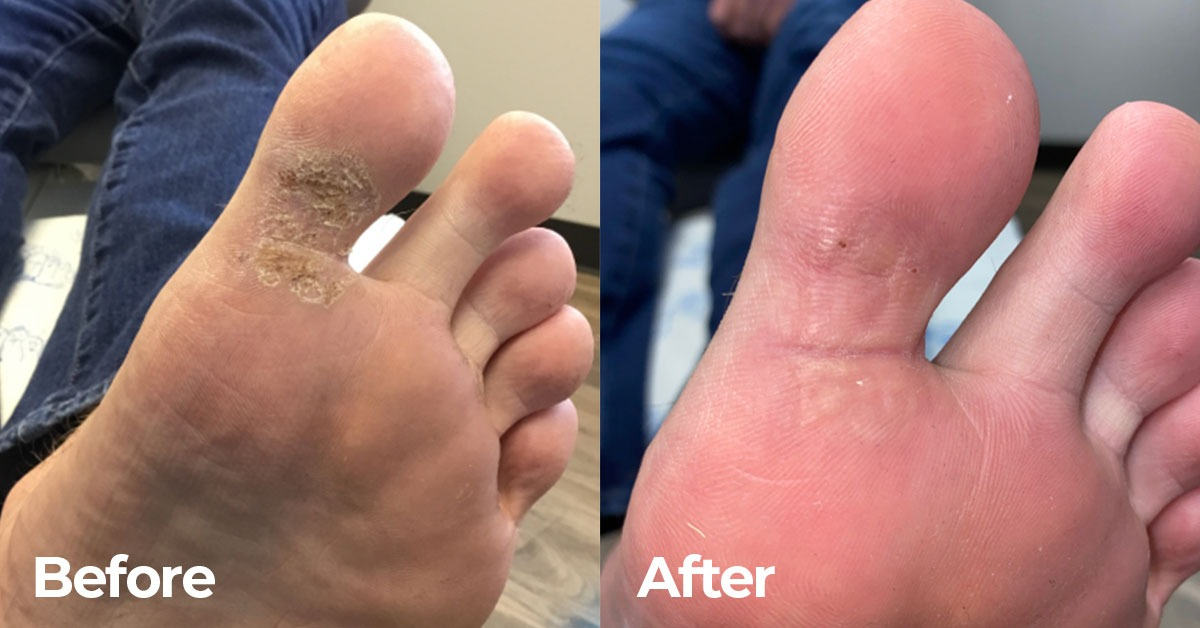Warts: (785, 180, 938, 462), (258, 128, 377, 329)
